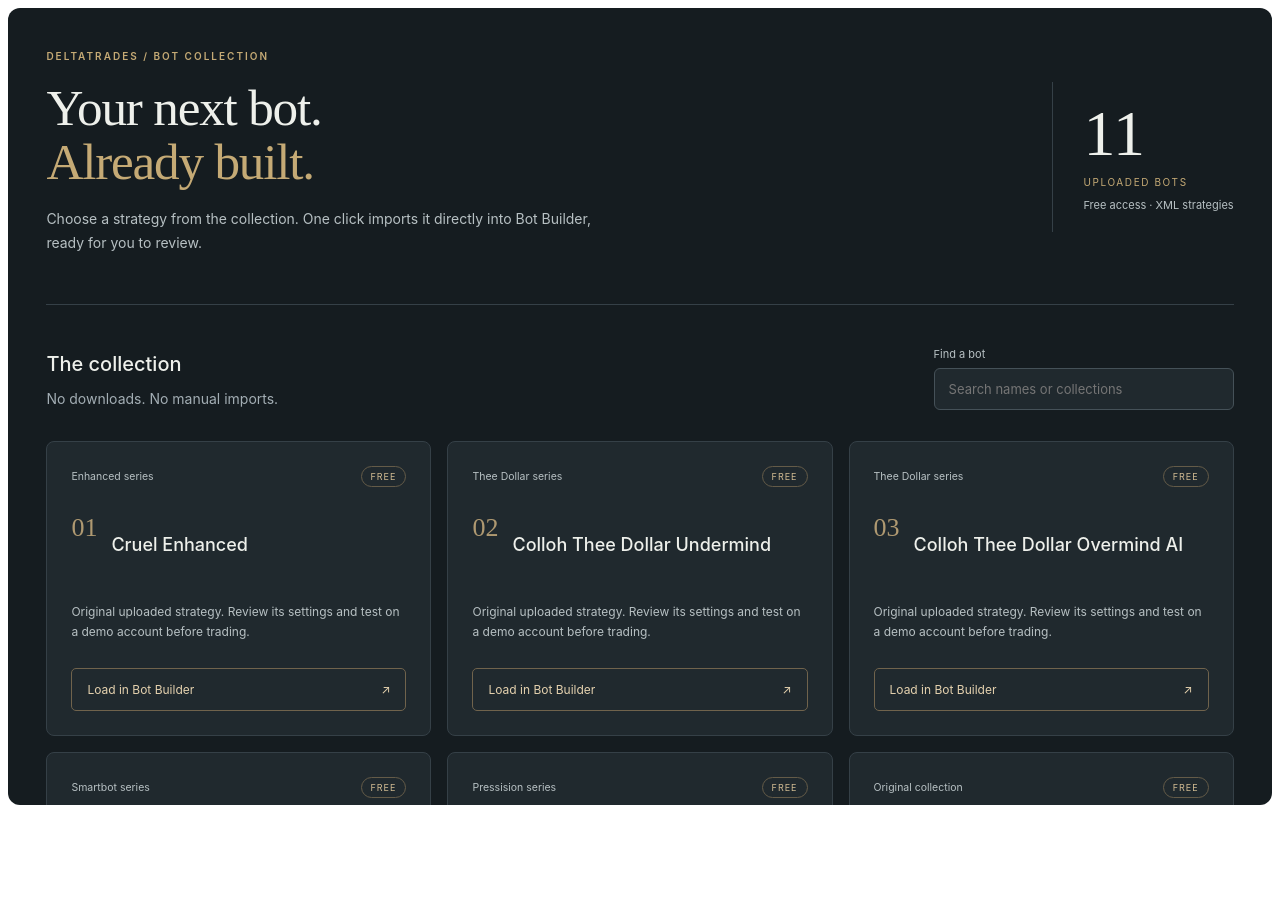
Test: Freebots collection › shows a retryable error when a bot file is unavailable
The width and height of the screenshot is (1280, 900).
Click the button named "Load Cruel Enhanced in Bot Builder" at (141, 689), box [71, 668, 406, 711]
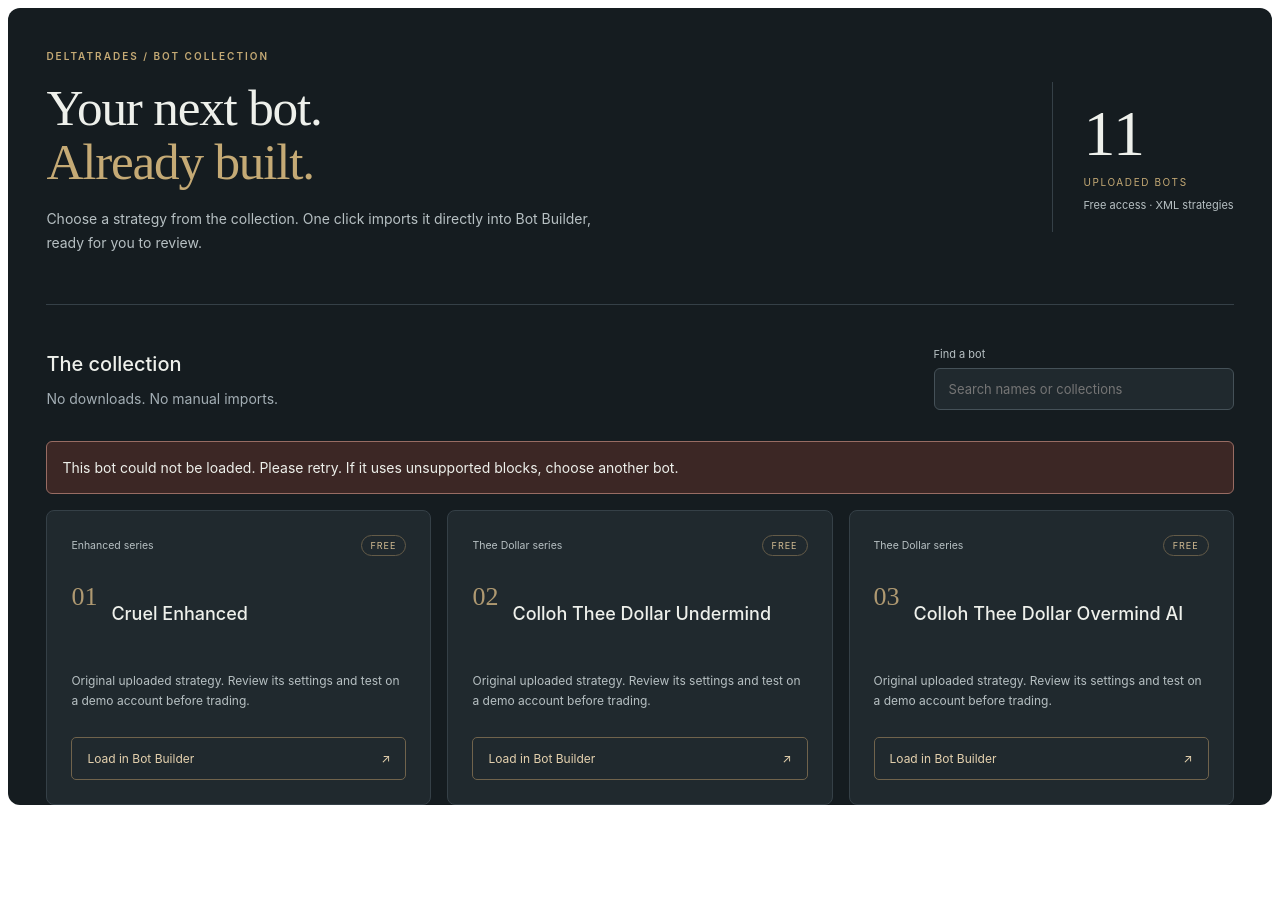
Expected: the button named "Load Cruel Enhanced in Bot Builder" is enabled, [71, 737, 406, 780]
Result: the message is shown at [46, 441, 1234, 494]
